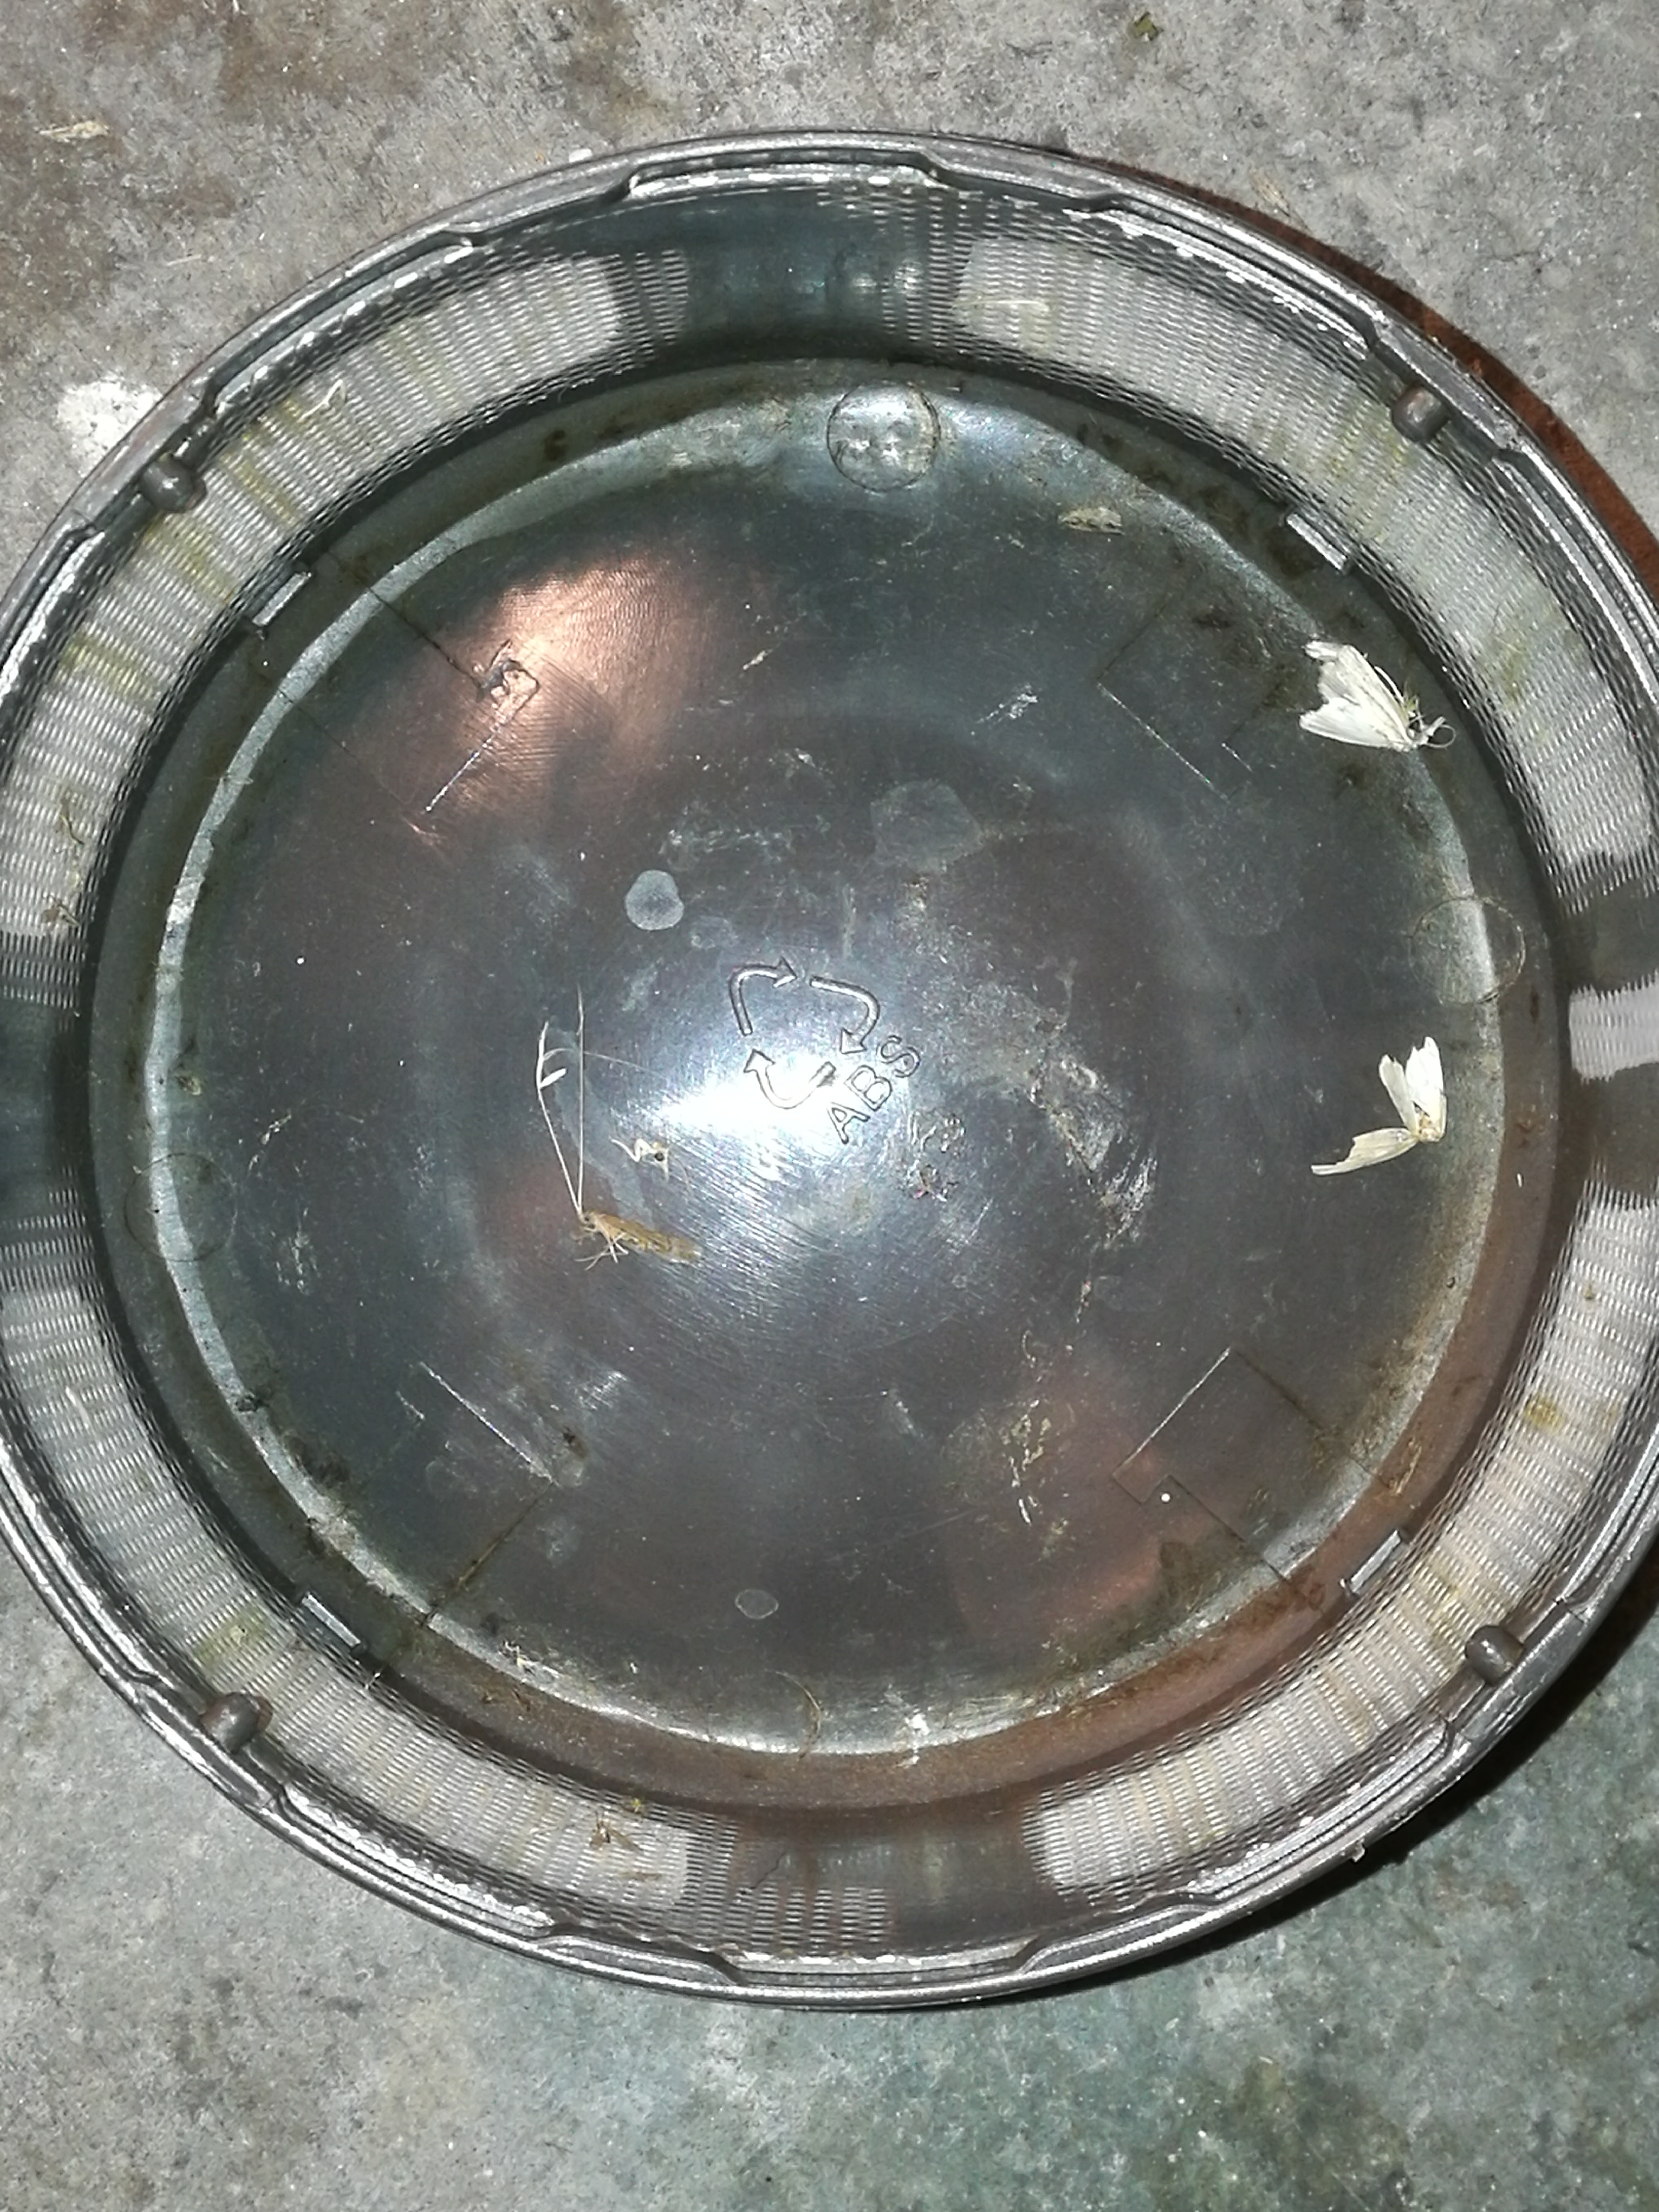mosquito: (577, 1211, 681, 1259)
moth: (1302, 641, 1422, 751), (1382, 1036, 1450, 1143)
